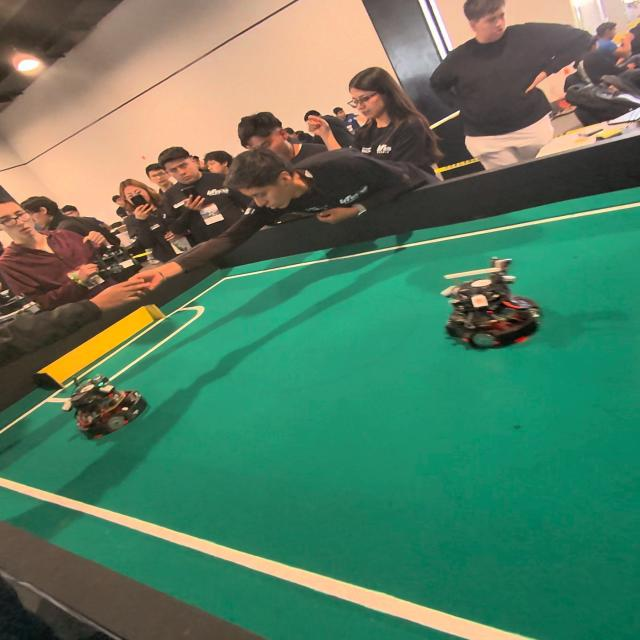Robot: (424, 258, 552, 358), (49, 377, 164, 436)
